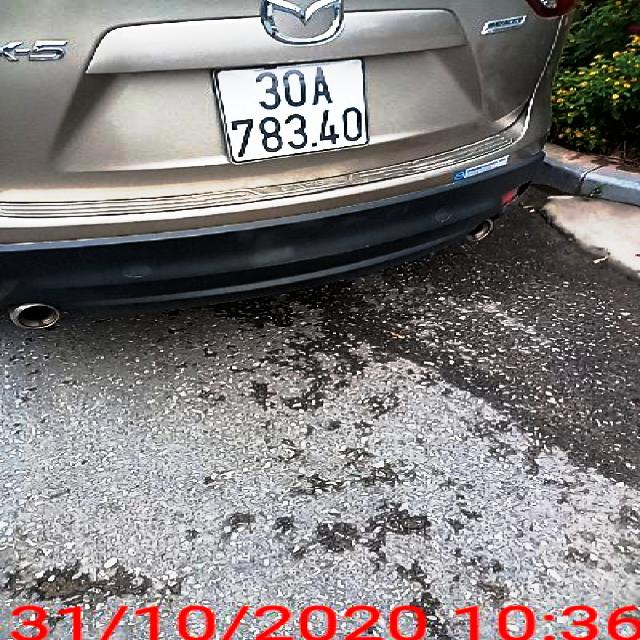license_plate: (219, 59, 368, 164)
